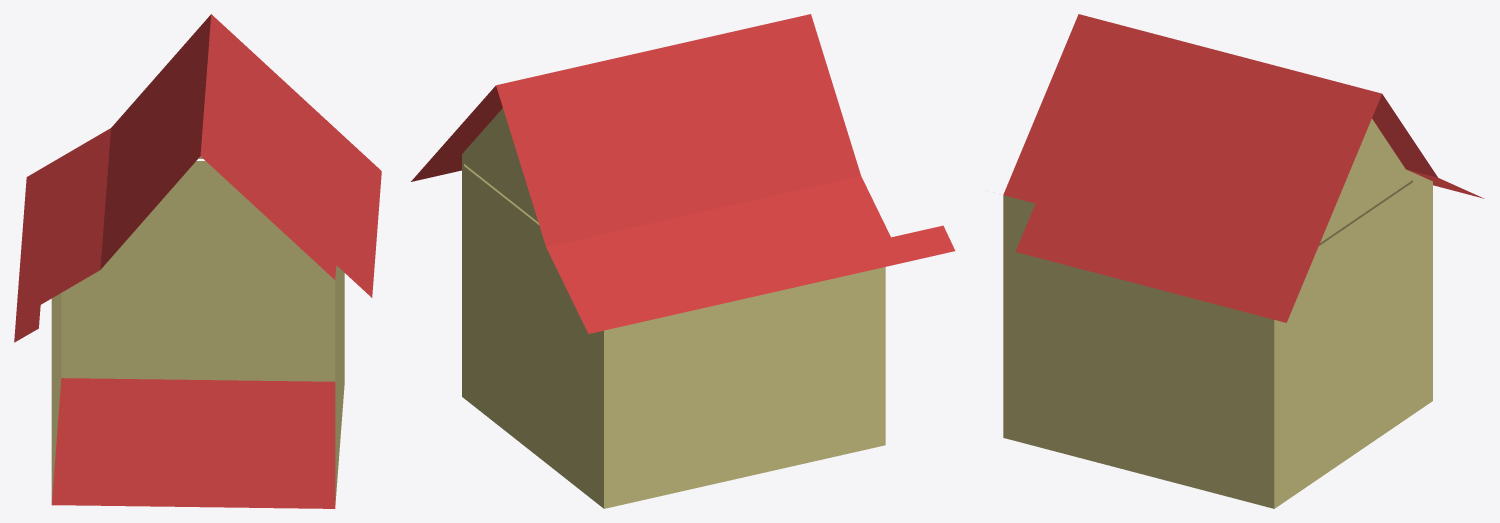
3 renders of one model, left to right at view 1: azimuth 30°, elevation 25°; view 2: azimuth 150°, elevation 25°; view 3: azimuth 270°, elevation 25°, orthographic. The views are drawn at different scales.
Bounding box in the file's own units: 21.25 × 19.72 × 16.17.
